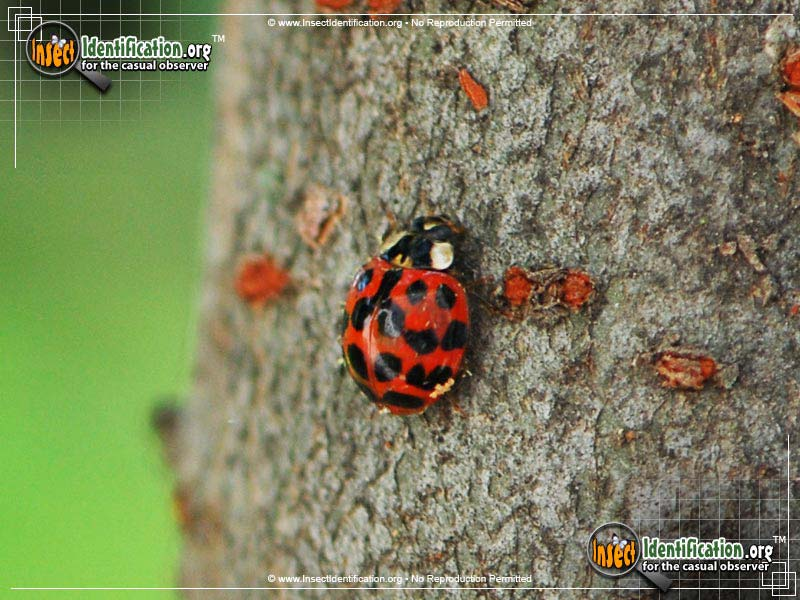Asian Multicolored Lady Beetle: (330, 198, 482, 446)
